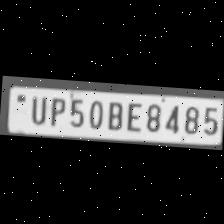0: (85, 96, 105, 128)
4: (162, 100, 180, 132)
5: (64, 94, 84, 127), (200, 103, 220, 135)
8: (142, 99, 162, 131), (180, 102, 200, 134)
B: (104, 97, 124, 129)
E: (123, 99, 143, 130)
P: (44, 93, 66, 125)
U: (25, 92, 47, 123)
